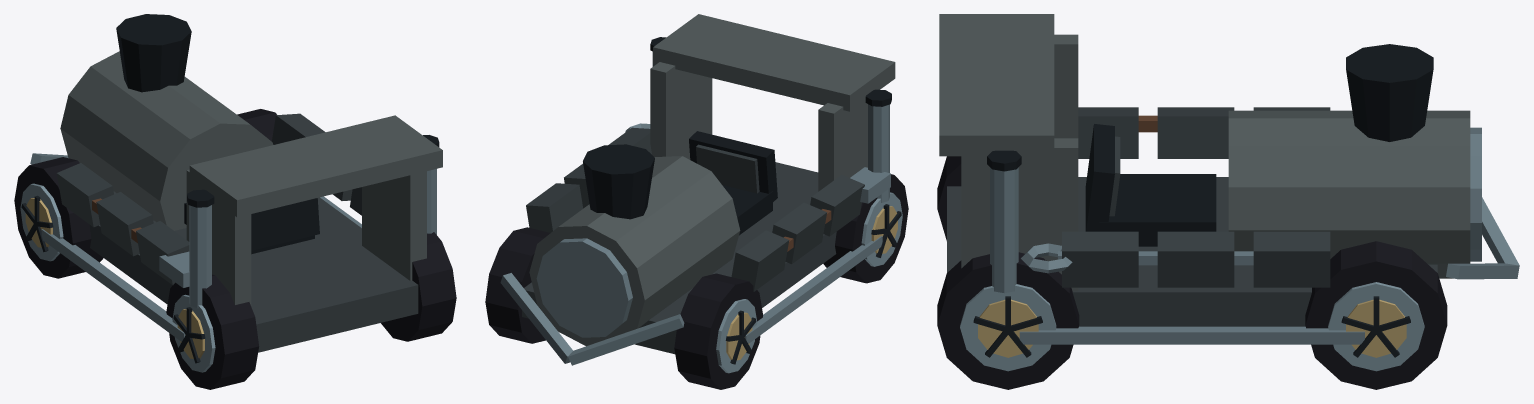
The model's file is kart.glb.
3 renders of one model, left to right at view 1: azimuth 30°, elevation 25°; view 2: azimuth 150°, elevation 25°; view 3: azimuth 270°, elevation 25°, orthographic. The views are drawn at different scales.
Visible parts, largest first — view 1: identity-train-locomotive-boiler-and-cowcatcher, identity-train-motif-armor, wheel-rear-left, wheel-front-left, wheel-rear-right, identity-train-motif-exhaust, identity-train-driver-cockpit, identity-train-motif-tools, wheel-front-right; view 2: identity-train-locomotive-boiler-and-cowcatcher, identity-train-motif-armor, wheel-front-left, identity-train-driver-cockpit, wheel-rear-left, wheel-front-right, identity-train-motif-exhaust, identity-train-motif-tools; view 3: identity-train-locomotive-boiler-and-cowcatcher, identity-train-motif-armor, wheel-front-right, wheel-rear-right, identity-train-driver-cockpit, identity-train-motif-exhaust, identity-train-motif-tools, wheel-rear-left.
Boxes of the visible parts, left/top/right/bottom form: identity-train-locomotive-boiler-and-cowcatcher: left=30, top=14, right=442, bottom=352; identity-train-motif-armor: left=56, top=113, right=361, bottom=284; wheel-rear-left: left=166, top=274, right=259, bottom=389; wheel-front-left: left=14, top=157, right=103, bottom=278; wheel-rear-right: left=381, top=232, right=456, bottom=341; identity-train-motif-exhaust: left=187, top=135, right=439, bottom=308; identity-train-driver-cockpit: left=184, top=198, right=319, bottom=254; identity-train-motif-tools: left=92, top=198, right=189, bottom=287; wheel-front-right: left=237, top=109, right=276, bottom=141; identity-train-locomotive-boiler-and-cowcatcher: left=500, top=14, right=895, bottom=365; identity-train-motif-armor: left=526, top=127, right=864, bottom=291; wheel-front-left: left=674, top=273, right=762, bottom=389; identity-train-driver-cockpit: left=689, top=131, right=777, bottom=235; wheel-rear-left: left=823, top=174, right=908, bottom=283; wheel-front-right: left=485, top=227, right=550, bottom=343; identity-train-motif-exhaust: left=650, top=37, right=891, bottom=202; identity-train-motif-tools: left=625, top=123, right=890, bottom=251; identity-train-locomotive-boiler-and-cowcatcher: left=939, top=14, right=1519, bottom=344; identity-train-motif-armor: left=1062, top=107, right=1330, bottom=287; wheel-front-right: left=1305, top=241, right=1447, bottom=389; wheel-rear-right: left=937, top=252, right=1079, bottom=389; identity-train-driver-cockpit: left=1085, top=124, right=1216, bottom=246; identity-train-motif-exhaust: left=987, top=150, right=1021, bottom=293; identity-train-motif-tools: left=1021, top=115, right=1253, bottom=273; wheel-rear-left: left=937, top=156, right=961, bottom=240.
Size of the model in its own units: 1.91 by 1.49 by 3.04.
